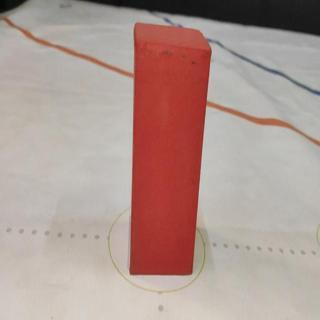redbox: (129, 21, 212, 274)
